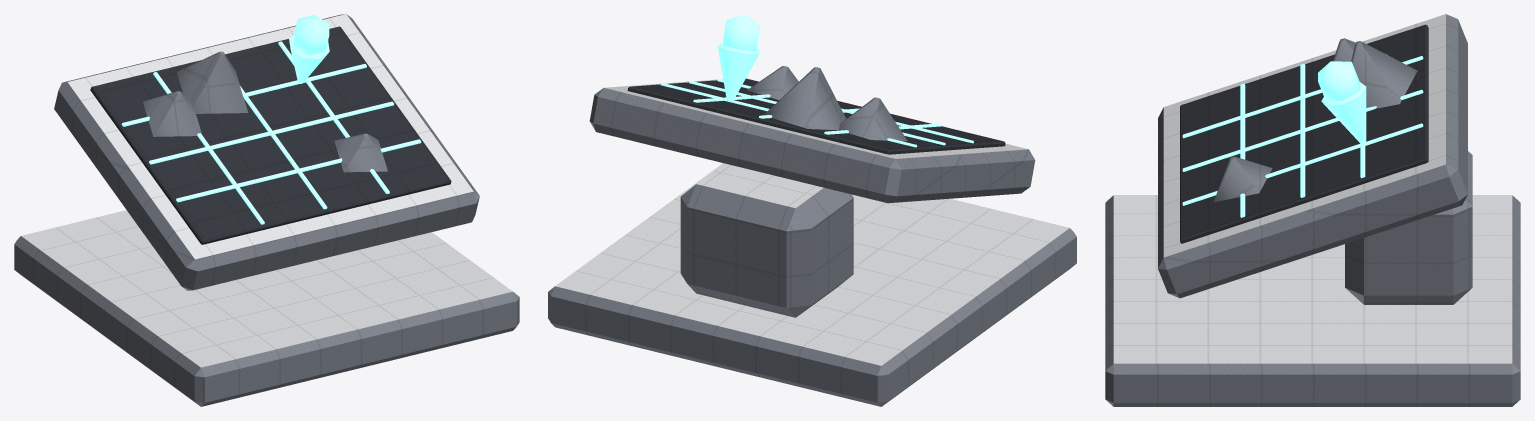
File: R4X_Minimap_LOD1.glb
3 renders of one model, left to right at view 1: azimuth 30°, elevation 25°; view 2: azimuth 150°, elevation 25°; view 3: azimuth 270°, elevation 25°, orthographic. The views are drawn at different scales.
Visible parts, largest first — view 1: R4X_Minimap_LOD1; view 2: R4X_Minimap_LOD1; view 3: R4X_Minimap_LOD1.
Boxes of the visible parts, bbox=[...] form: R4X_Minimap_LOD1: bbox=[14, 14, 519, 406]; R4X_Minimap_LOD1: bbox=[548, 14, 1076, 406]; R4X_Minimap_LOD1: bbox=[1105, 14, 1520, 406].
Size of the model in its own units: 0.52 by 0.403 by 0.52.
Materials: 4 (3 with a texture image).
